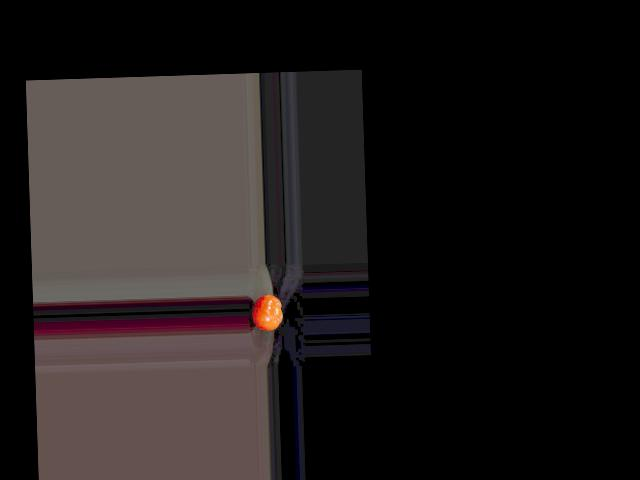tomato: (251, 294, 282, 332)
